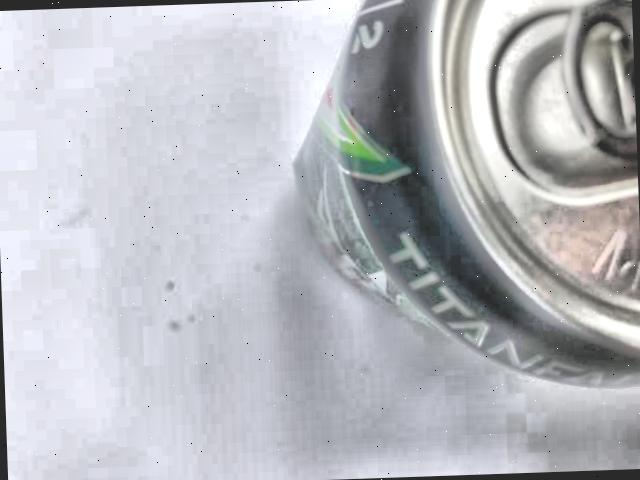Bottles: (288, 0, 640, 426)
